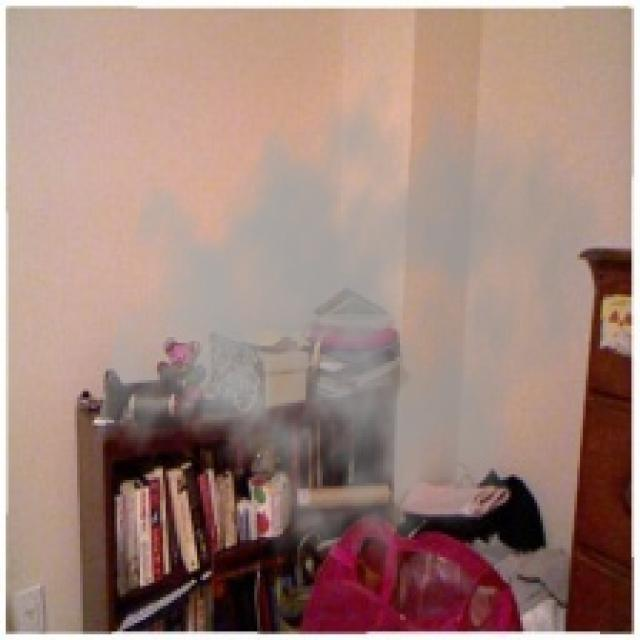Smoke: (94, 43, 609, 583)
